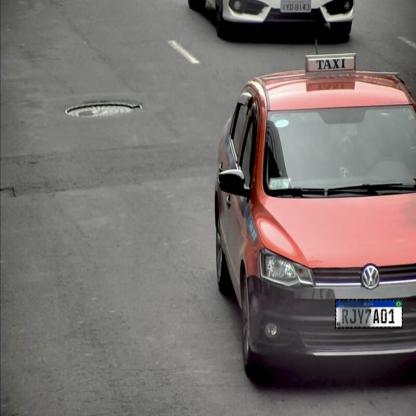PlacaM: (335, 298, 403, 328)
